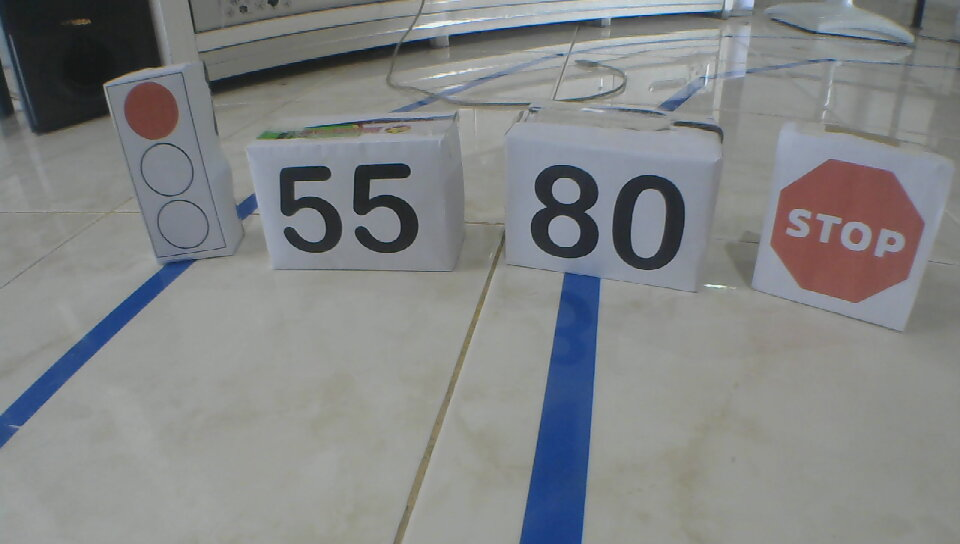Red Light: (122, 80, 209, 249)
Speed 55: (277, 162, 419, 257)
Speed 80: (527, 162, 687, 274)
Stop: (768, 155, 926, 306)
